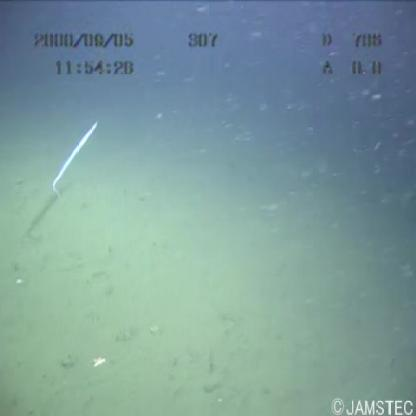Bio: (45, 115, 103, 210)
